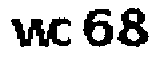6: (79, 4, 115, 51)
8: (117, 4, 149, 52)
c: (51, 16, 78, 48)
w: (8, 16, 51, 53)
